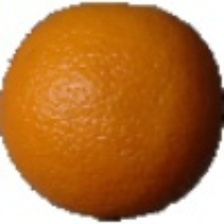orange: (38, 32, 178, 190)
